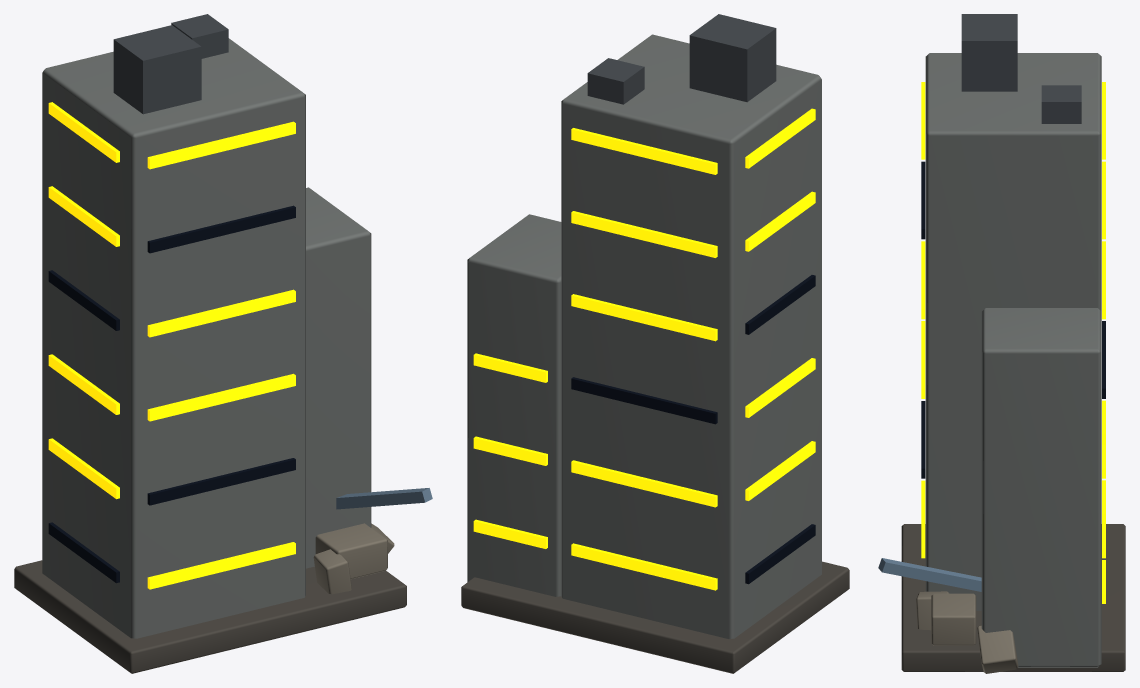
File: highrise_c.glb
3 views of the same model, side by side, from view 1: azimuth 30°, elevation 25°; view 2: azimuth 150°, elevation 25°; view 3: azimuth 270°, elevation 25° (orthographic). The views are drawn at different scales.
Visible parts, largest first — view 1: Main block, Wing, Plinth, Roof plant, Collapse debris, Window strip.002, Window strip.001, Window strip.003, Window strip, Window strip.004, Window strip.005, Roof stub (+8 smaller); view 2: Main block, Wing, Plinth, Roof plant, Roof stub, Window strip.006, Window strip.008, Window strip.007, Window strip.009, Window strip.011, Window strip.010, Window strip.012 (+8 smaller); view 3: Main block, Wing, Plinth, Roof plant, Collapse debris, Roof stub, Fallen beam, Collapse debris.001, Collapse debris.002, Window strip.003, Window strip, Window strip.004 (+3 smaller).
Boxes of the visible parts, x1,y1,x2,y2 form: Main block: [42, 38, 305, 638]; Wing: [306, 187, 371, 568]; Plinth: [14, 560, 406, 673]; Roof plant: [113, 25, 201, 114]; Collapse debris: [315, 523, 387, 579]; Window strip.002: [147, 373, 295, 421]; Window strip.001: [147, 458, 295, 505]; Window strip.003: [147, 289, 295, 337]; Window strip: [147, 542, 295, 589]; Window strip.004: [147, 205, 295, 253]; Window strip.005: [147, 121, 295, 169]; Roof stub: [171, 14, 228, 58]; Main block: [561, 34, 821, 638]; Wing: [467, 214, 561, 596]; Plinth: [461, 561, 849, 673]; Roof plant: [689, 14, 776, 102]; Roof stub: [587, 58, 644, 104]; Window strip.006: [571, 543, 717, 590]; Window strip.008: [571, 377, 717, 424]; Window strip.007: [571, 460, 717, 507]; Window strip.009: [571, 294, 717, 341]; Window strip.011: [571, 128, 717, 174]; Window strip.010: [571, 211, 717, 257]; Window strip.012: [745, 524, 815, 584]; Main block: [925, 53, 1101, 610]; Wing: [981, 308, 1101, 667]; Plinth: [901, 524, 1125, 671]; Roof plant: [961, 14, 1017, 91]; Collapse debris: [931, 593, 976, 645]; Roof stub: [1041, 85, 1081, 123]; Fallen beam: [878, 558, 981, 591]; Collapse debris.001: [977, 625, 1018, 673]; Collapse debris.002: [916, 591, 949, 630]; Window strip.003: [921, 241, 925, 319]; Window strip: [921, 480, 925, 558]; Window strip.004: [921, 161, 925, 239].
Bounding box in the file's own units: 4.2 × 7.6 × 3.09.
